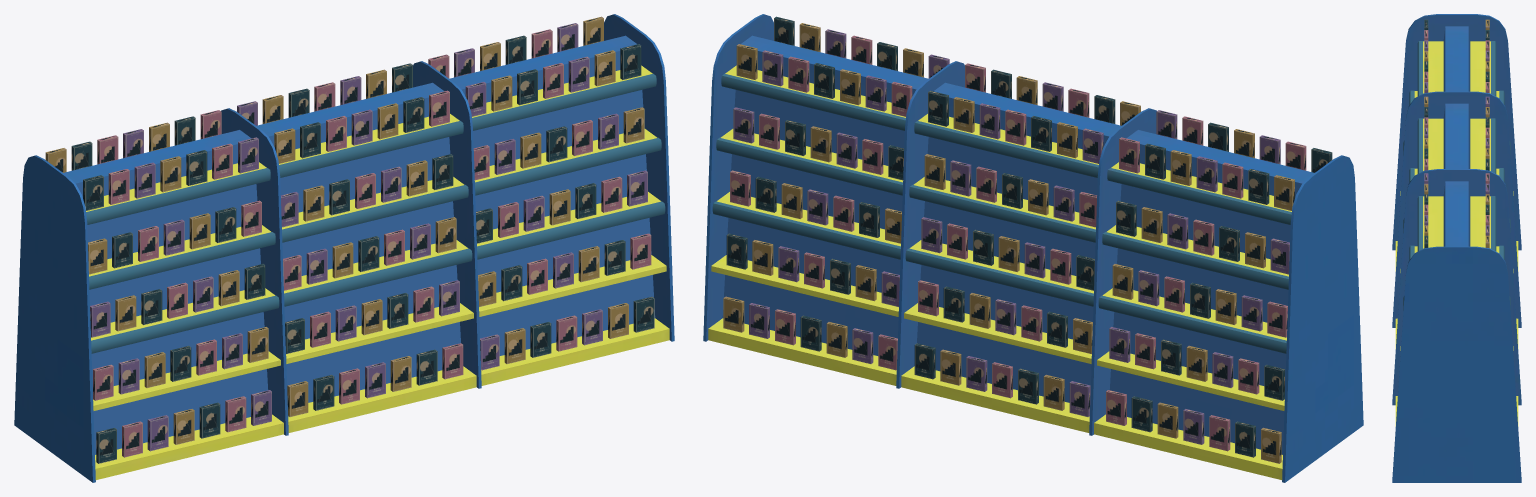
The model's file is store_vhs_shelf.glb.
3 renders of one model, left to right at view 1: azimuth 30°, elevation 25°; view 2: azimuth 150°, elevation 25°; view 3: azimuth 270°, elevation 25°, orthographic. The views are drawn at different scales.
Parts seen in each view (by area): view 1: Object_6, Cover -1:0:0:0; view 2: Object_6, Cover -1:0:0:0; view 3: Object_6, Cover -1:0:0:0.
Boxes of the visible parts, <box> form: Object_6: <box>14,14,674,482</box>; Cover -1:0:0:0: <box>45,16,654,463</box>; Object_6: <box>703,14,1363,482</box>; Cover -1:0:0:0: <box>723,16,1332,463</box>; Object_6: <box>1392,14,1521,482</box>; Cover -1:0:0:0: <box>1424,19,1489,248</box>.
Bounding box in the file's own units: 4.05 × 1.9 × 0.9503.
2 materials, 2 textured.
